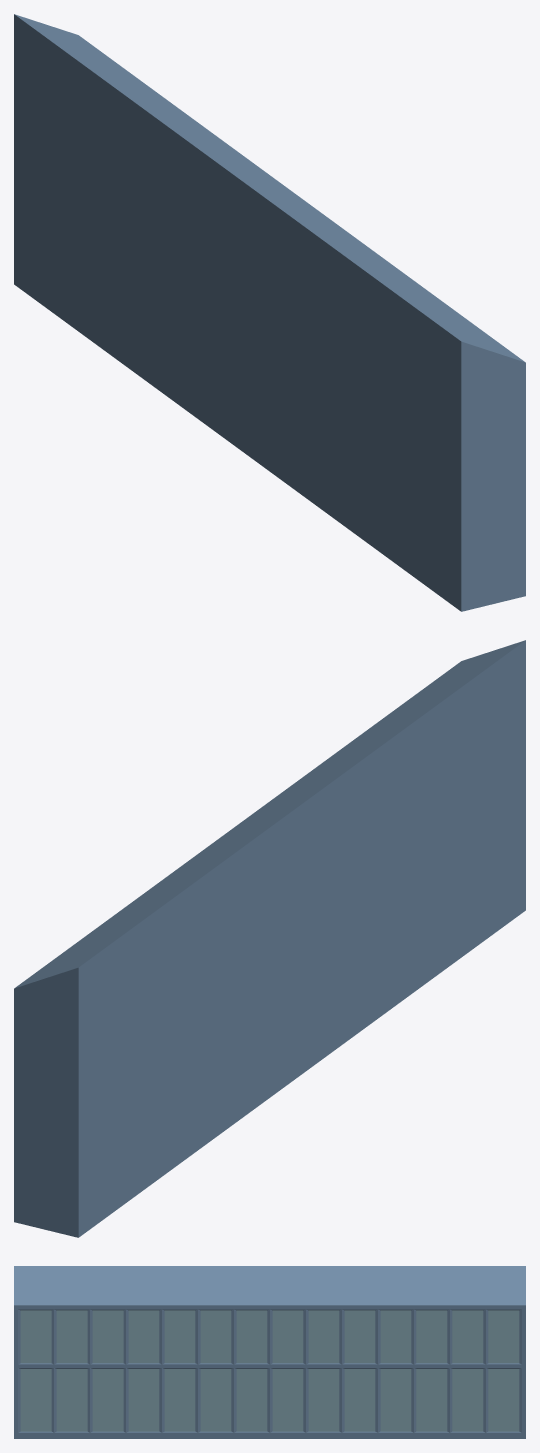
The model's file is Lockers.fbx.
The picture shows the model from 3 angles, top to bottom: view 1: azimuth 30°, elevation 25°; view 2: azimuth 150°, elevation 25°; view 3: azimuth 270°, elevation 25°; orthographic projection. The views are drawn at different scales.
Visible parts, largest first — view 1: Cube; view 2: Cube; view 3: Cube.
Part boxes in pixels (bbox=[...]): Cube: bbox=[14, 14, 525, 611]; Cube: bbox=[14, 640, 525, 1237]; Cube: bbox=[14, 1266, 525, 1438].
Size of the model in its own units: 50 by 200 by 600.
